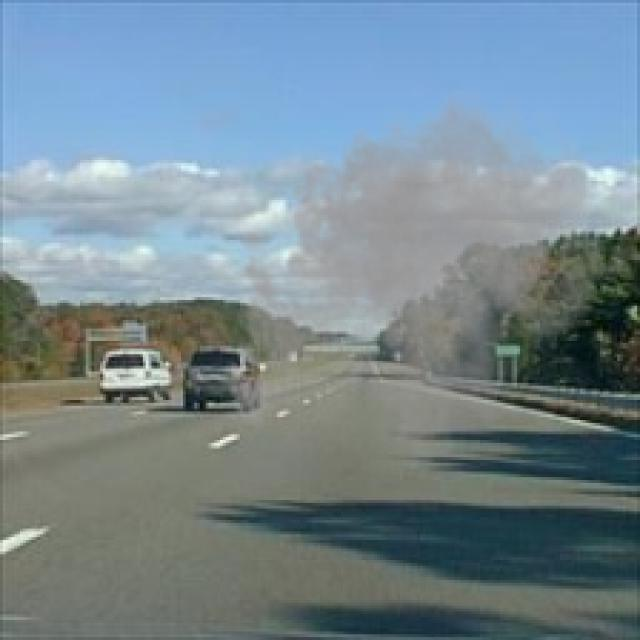smoke: (214, 74, 632, 497)
